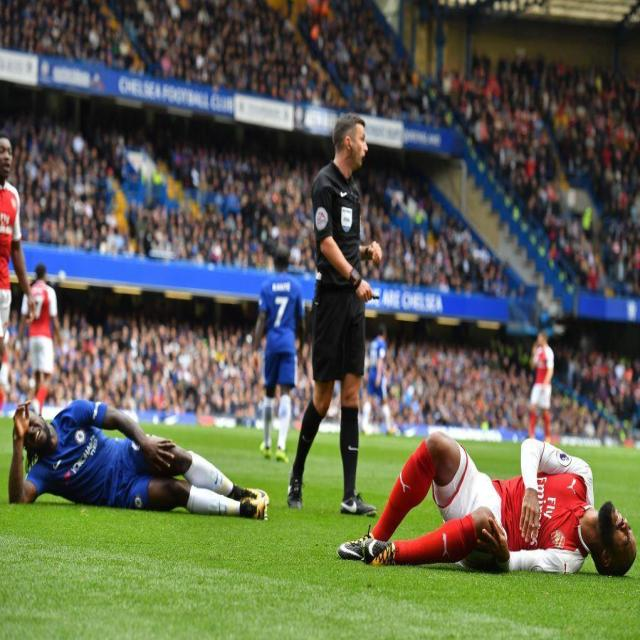10-: (0, 0, 639, 575)
down: (328, 422, 640, 578), (8, 385, 278, 531)
